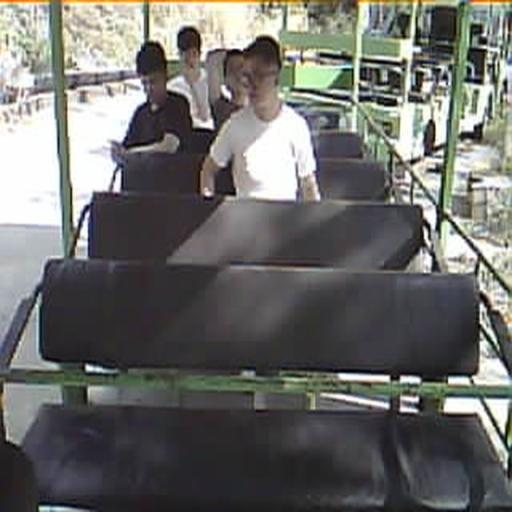persona: (200, 34, 322, 203), (116, 39, 194, 157), (167, 26, 221, 132), (203, 48, 249, 130)
